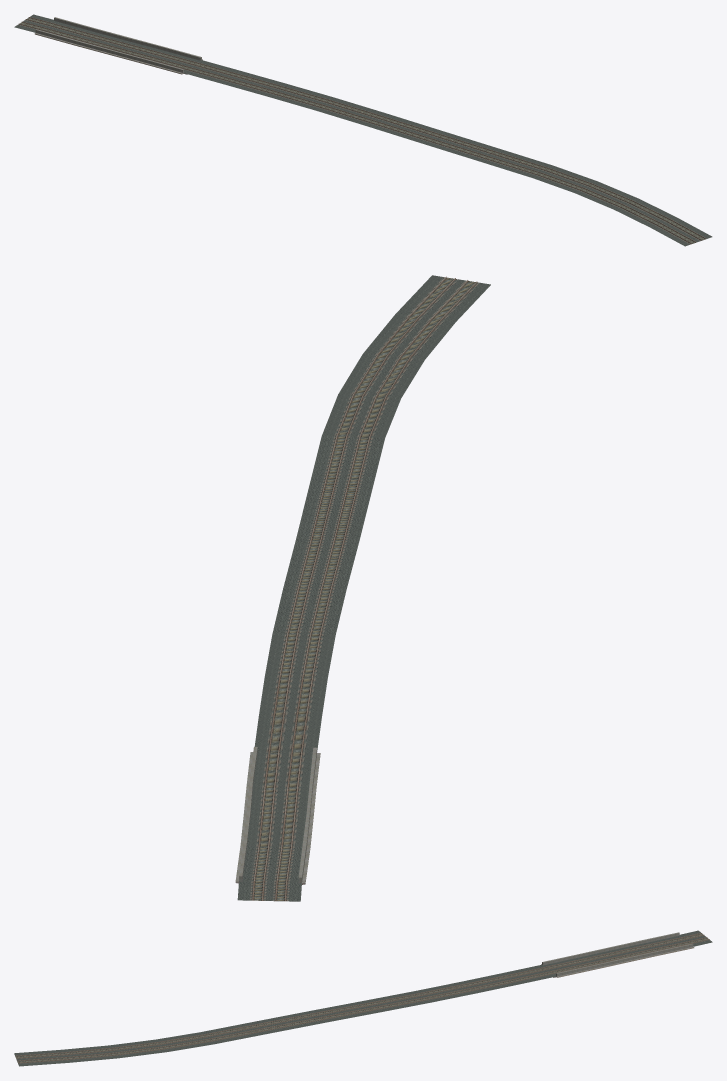
The model's file is des_trainline17.obj.
3 views of the same model, one above another, from view 1: azimuth 30°, elevation 25°; view 2: azimuth 150°, elevation 25°; view 3: azimuth 270°, elevation 25° (orthographic). The views are drawn at different scales.
Visible parts, largest first — view 1: des_trainline17; view 2: des_trainline17; view 3: des_trainline17.
Part boxes in pixels (<box>): des_trainline17: <box>14,14,712,246</box>; des_trainline17: <box>235,275,490,901</box>; des_trainline17: <box>14,930,712,1066</box>.
Size of the model in its own units: 111 by 2.65 by 245.
4 materials, 4 textured.
